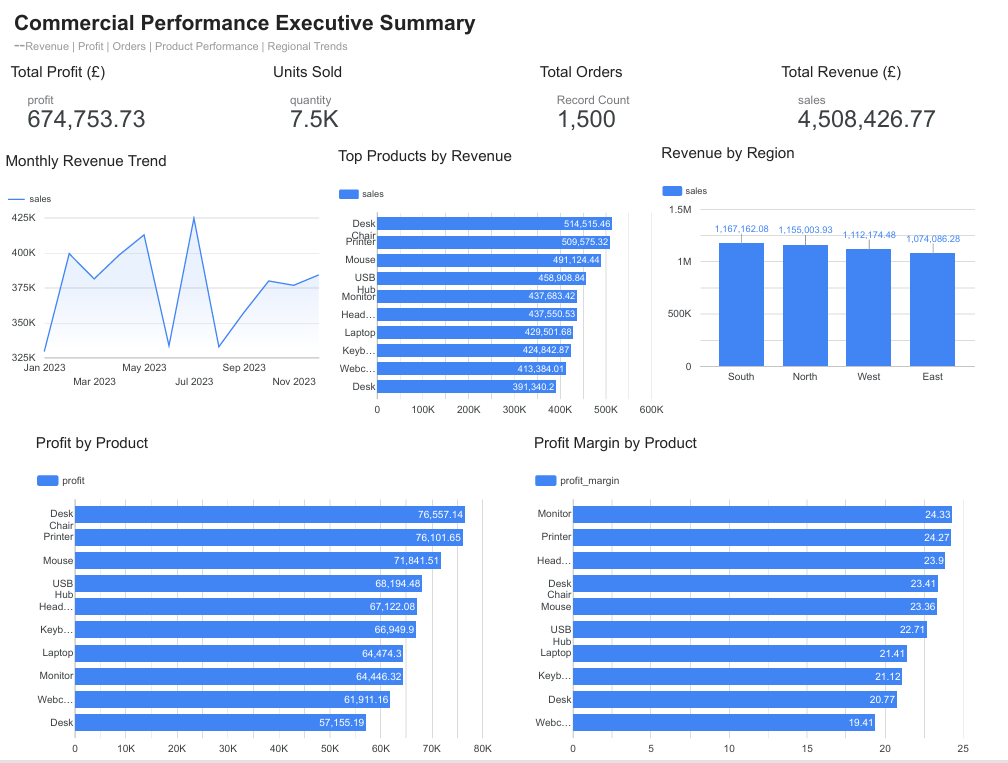

The dashboard page shown, as its layout file describes it:
{"tool":"powerbi","page":{"name":"第 1 页","canvas":[1280,720],"ordinal":0},"visuals":[{"type":"card","title":"Total Revenue(£)","fields":{"Values":["Sum(retail_sales_dataset.sales)"]},"box":[0,43.7,229.9,118.2],"z":0},{"type":"card","title":"Total Profit (£)","fields":{"Values":["Sum(retail_sales_dataset.profit)"]},"box":[378,39.7,230.6,119.1],"z":1000},{"type":"lineChart","title":"Total Orders","fields":{"Y":["retail_sales_dataset.Total Orders"]},"box":[723.8,41.6,230.6,119.1],"z":2000},{"type":"card","title":"Avg Order Value (£)","fields":{"Values":["retail_sales_dataset.Avg_Order_Value"]},"box":[1041.3,41.6,230.6,119.1],"z":3000},{"type":"lineChart","title":"Monthly Revenue Trend","fields":{"Category":["retail_sales_dataset.Month Number"],"Y":["Sum(retail_sales_dataset.sales)"]},"box":[9.4,179.5,398.7,274],"z":4000},{"type":"columnChart","title":"Revenue by Region","fields":{"Category":["retail_sales_dataset.region"],"Y":["Sum(retail_sales_dataset.sales)"]},"box":[468.7,179.5,338.3,274],"z":5000},{"type":"barChart","title":"Top Products by Revenue","fields":{"Category":["retail_sales_dataset.product"],"Y":["Sum(retail_sales_dataset.sales)"]},"box":[850.4,179.5,379.8,274],"z":6000},{"type":"clusteredBarChart","title":"Profit by Product","fields":{"Category":["retail_sales_dataset.product"],"Y":["Sum(retail_sales_dataset.profit)"]},"box":[51,453.5,570.7,266.5],"z":7000},{"type":"clusteredBarChart","title":"Profit Margin by Product","fields":{"Y":["retail_sales_dataset.Profit Margin"],"Category":["retail_sales_dataset.product"]},"box":[678.4,453.5,551.8,266.5],"z":8000},{"type":"textbox","box":[0,0,527.9,42.1],"z":9000}]}

Visuals, with their boxes on the page's 1280x720 design canvas (x1, y1, x2, y2). These are canvas units, not pixel positions in the 1008x763 screenshot, which may show the page scaled, cropped or inside an application window:
"Total Revenue(£)" card: l=0, t=44, r=230, b=162
"Total Profit (£)" card: l=378, t=40, r=609, b=159
"Total Orders" lineChart: l=724, t=42, r=954, b=161
"Avg Order Value (£)" card: l=1041, t=42, r=1272, b=161
"Monthly Revenue Trend" lineChart: l=9, t=180, r=408, b=454
"Revenue by Region" columnChart: l=469, t=180, r=807, b=454
"Top Products by Revenue" barChart: l=850, t=180, r=1230, b=454
"Profit by Product" clusteredBarChart: l=51, t=454, r=622, b=720
"Profit Margin by Product" clusteredBarChart: l=678, t=454, r=1230, b=720
textbox: l=0, t=0, r=528, b=42
